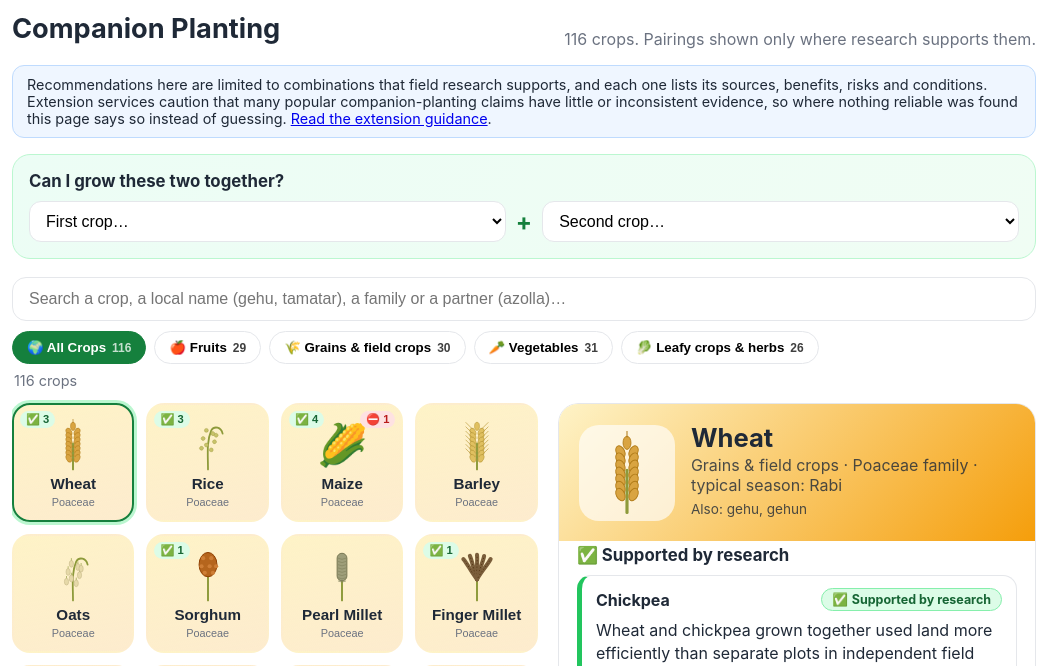
Test: an empty search shows a friendly empty state instead of a blank grid
The width and height of the screenshot is (1048, 666).
Replace the text in the search field named "Search crops" with "zzzz-nothing": (524, 299) [12,277,1036,321]
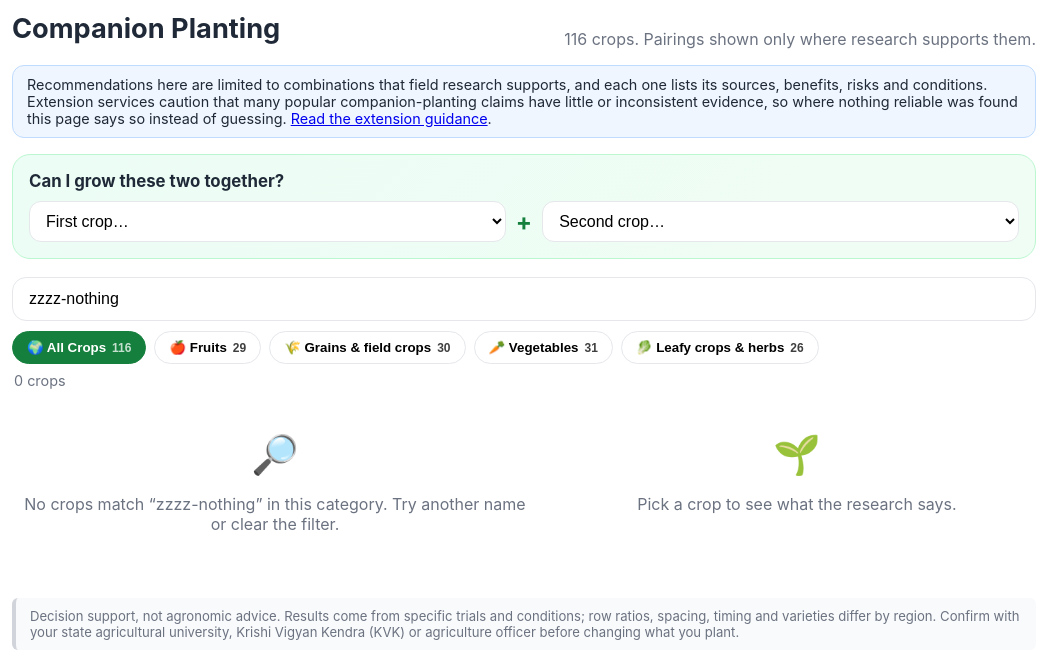
Now the text "No crops match" is shown, box [24,494,156,514]
